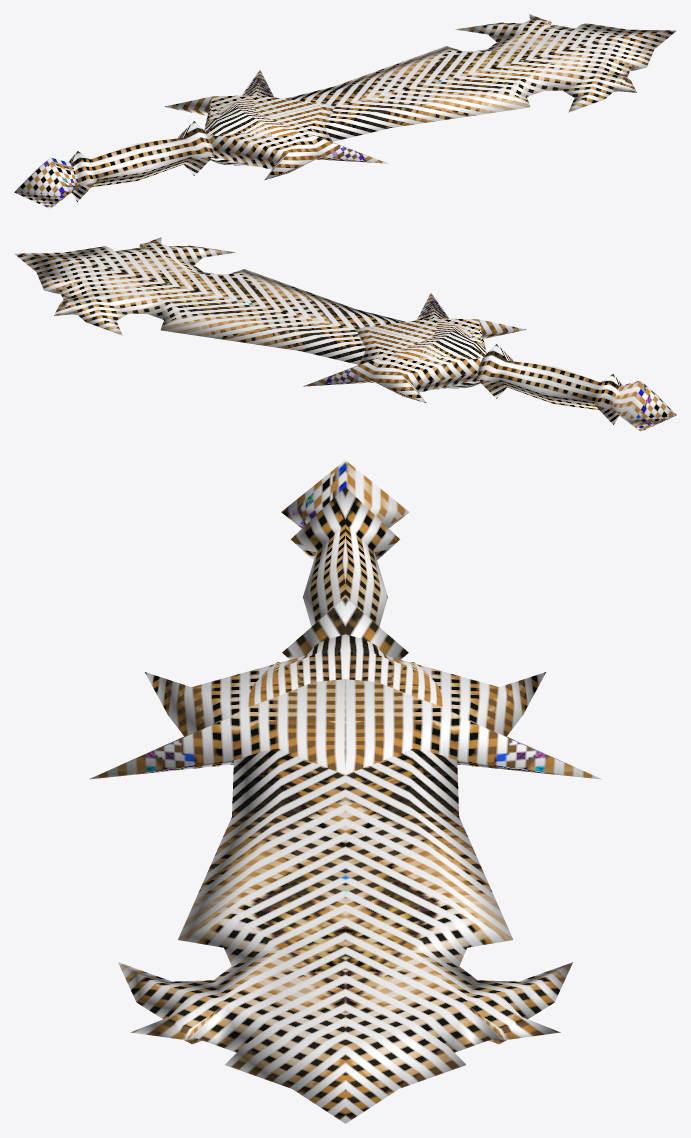
File: item_weaswtcrystal-et01.glb
3 renders of one model, top to bottom at view 1: azimuth 30°, elevation 25°; view 2: azimuth 150°, elevation 25°; view 3: azimuth 270°, elevation 25°, orthographic. The views are drawn at different scales.
Parts seen in each view (by area): view 1: FlyffMesh; view 2: FlyffMesh; view 3: FlyffMesh.
Part boxes in pixels (x1,y1,x2,y2): FlyffMesh: [14, 14, 676, 208]; FlyffMesh: [14, 237, 676, 431]; FlyffMesh: [89, 460, 601, 1123].
Size of the model in its own units: 2.02 by 0.1609 by 0.677.
Materials: 1 (1 with a texture image).
